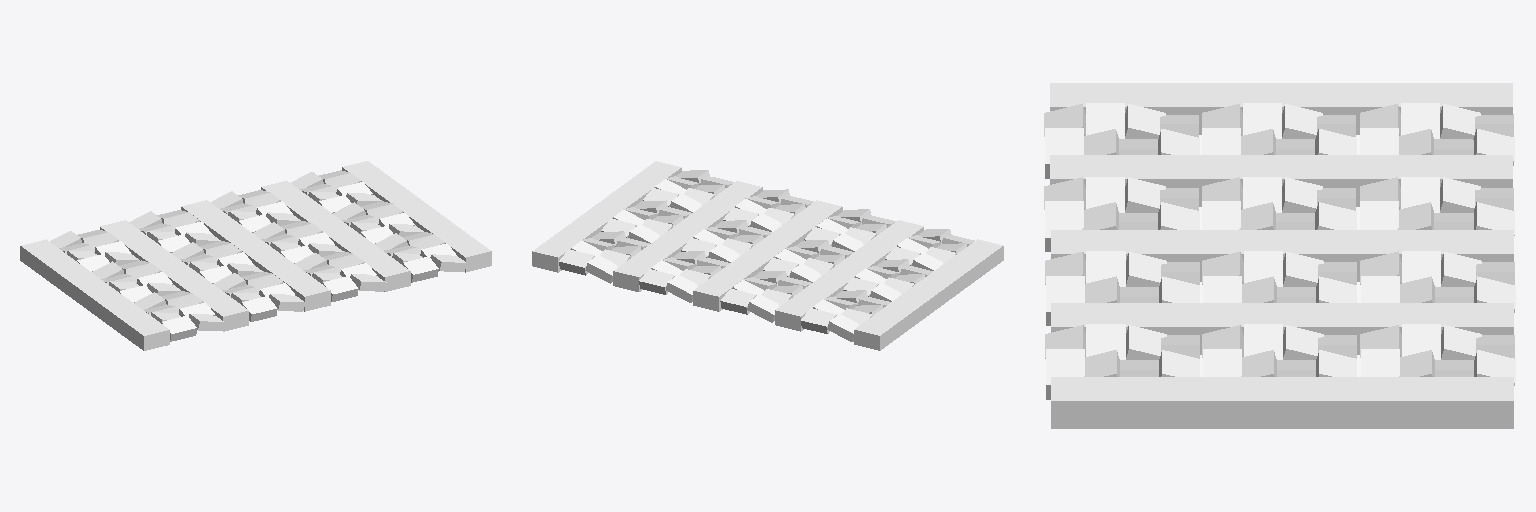
The robot description file, URDF, robot "chair":
<robot name="chair">
  <link name="base_link">
    <visual>
      <origin xyz="0 0 0" rpy="0 0 0" />
      <geometry>
        <mesh filename="package://hpp_environments/meshes/multicontact/plateforme_not_flat.stl"/>
      </geometry>
      <material name="white">
        <color rgba="1 1 1 1"/>
      </material>
    </visual>
    <collision>
      <origin xyz="0 0 0" rpy="0 0 0" />
      <geometry>
        <mesh filename="package://hpp_environments/meshes/multicontact/plateforme_not_flat.stl"/>
      </geometry>
    </collision>
  </link>
</robot>

--- Facts derived from the render (not from the file) ---
Views: 3 orthographic renders of the robot side by side, from view 1: azimuth 30°, elevation 25°; view 2: azimuth 150°, elevation 25°; view 3: azimuth 270°, elevation 25°.
Model chair with 1 links and 0 joints (none), rooted at base_link, posed all joints at 0.
Links seen in each view (by area): view 1: base_link; view 2: base_link; view 3: base_link.
Boxes of the visible links, x1,y1,x2,y2 form: base_link: [20, 161, 491, 350]; base_link: [532, 161, 1003, 350]; base_link: [1044, 83, 1515, 428].
Size in the robot's own frame: 4.01 by 2.51 by 0.1951 metres.
1 mesh visuals loaded from 1 distinct referenced files (1 binary STL).